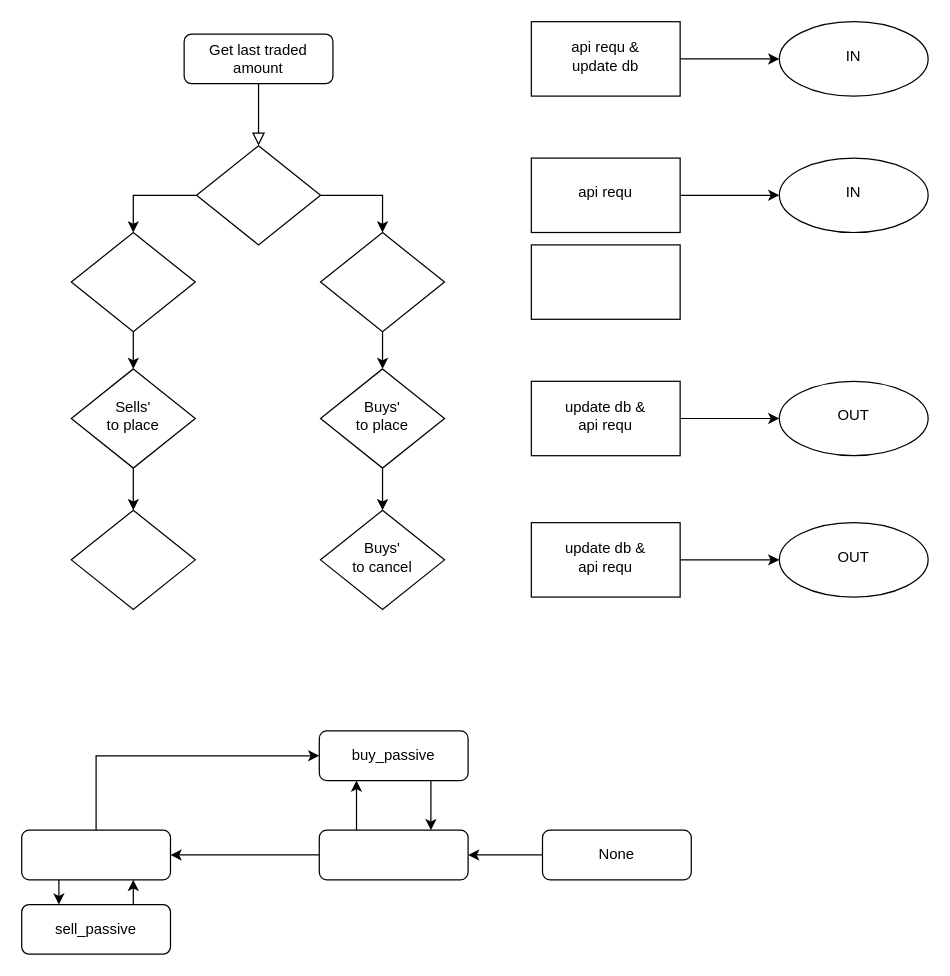
This 950x976 diagram has some shape labels left out. The shapes that lost their labels are listed below. From the top down, each one's centre as x and y in pixels, then its label:
At point (258, 194): "Get Open Orders".
At point (132, 281): "Buys' Completed".
At point (382, 281): "Sells' Completed".
At point (605, 281): "update db".
At point (132, 559): "Sells' to cancel".
At point (95, 854): "sell_active".
At point (393, 854): "buy_active".
